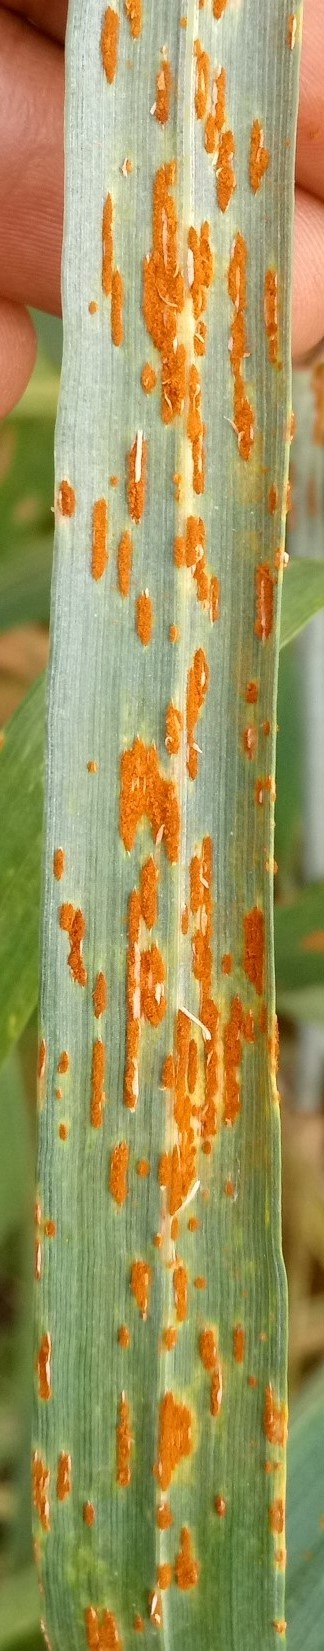Leaf Rust: (35, 138, 312, 1547)
